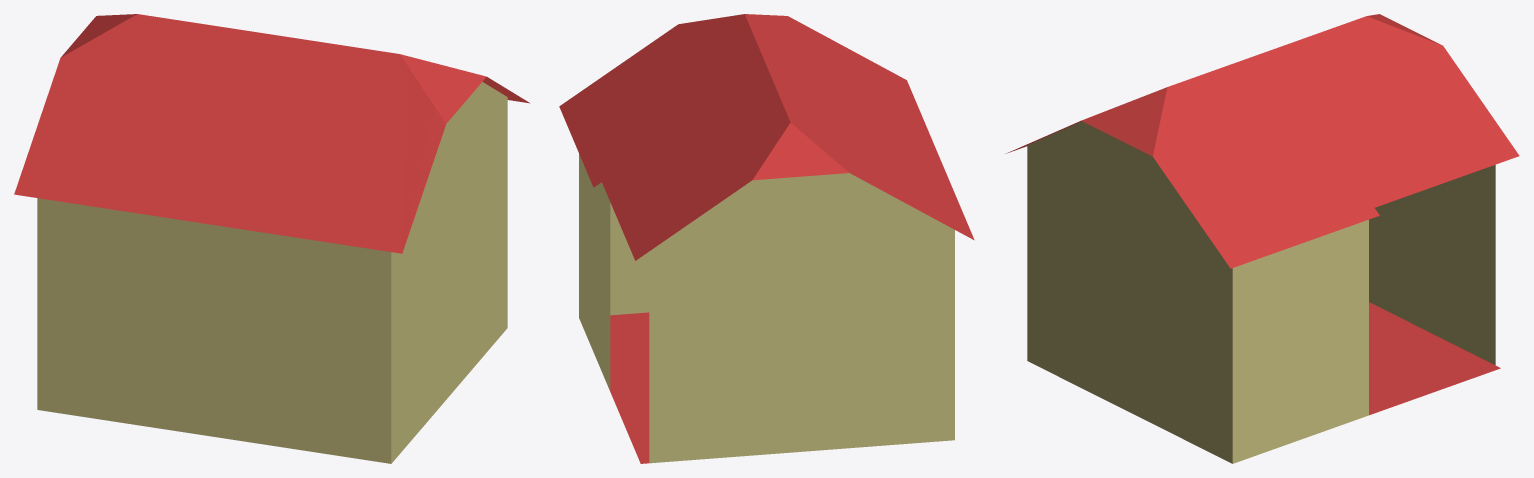
The picture shows the model from 3 angles, left to right: view 1: azimuth 30°, elevation 25°; view 2: azimuth 150°, elevation 25°; view 3: azimuth 270°, elevation 25°; orthographic projection. The views are drawn at different scales.
Size of the model in its own units: 15.24 by 15.19 by 10.13.
